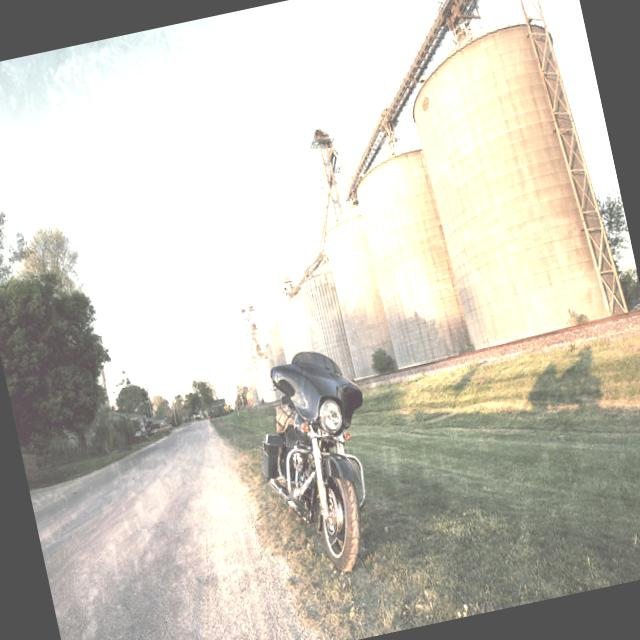Vehicle: (241, 343, 397, 584), (144, 418, 174, 439)
